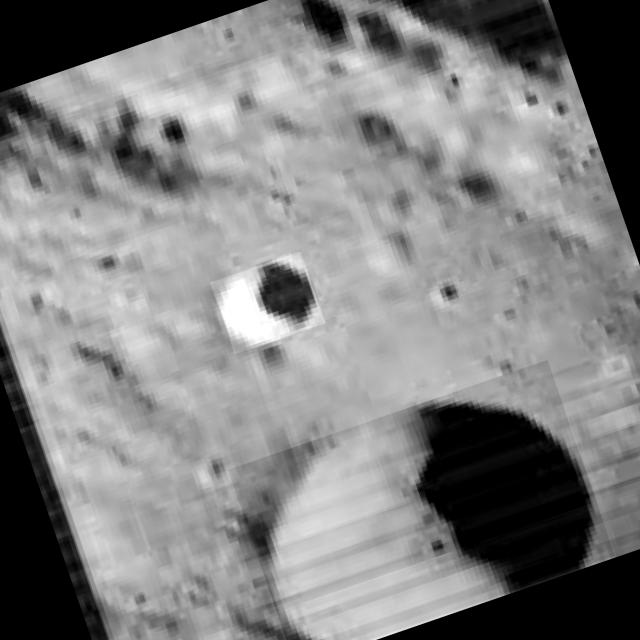crater: (227, 359, 614, 640), (210, 250, 326, 354)
